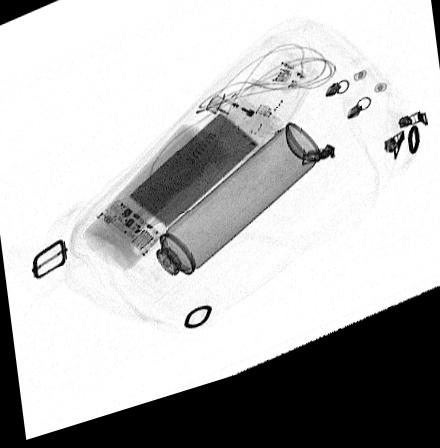Lighter: (206, 108, 263, 150)
Powerbank: (95, 104, 288, 268)
Sprayer: (124, 141, 322, 313)
